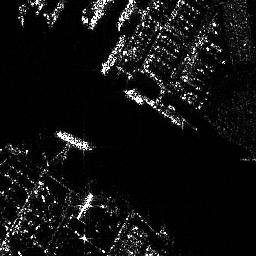ship: (101, 33, 125, 76), (55, 130, 92, 151), (114, 1, 136, 31), (77, 190, 94, 220), (123, 89, 143, 104)
